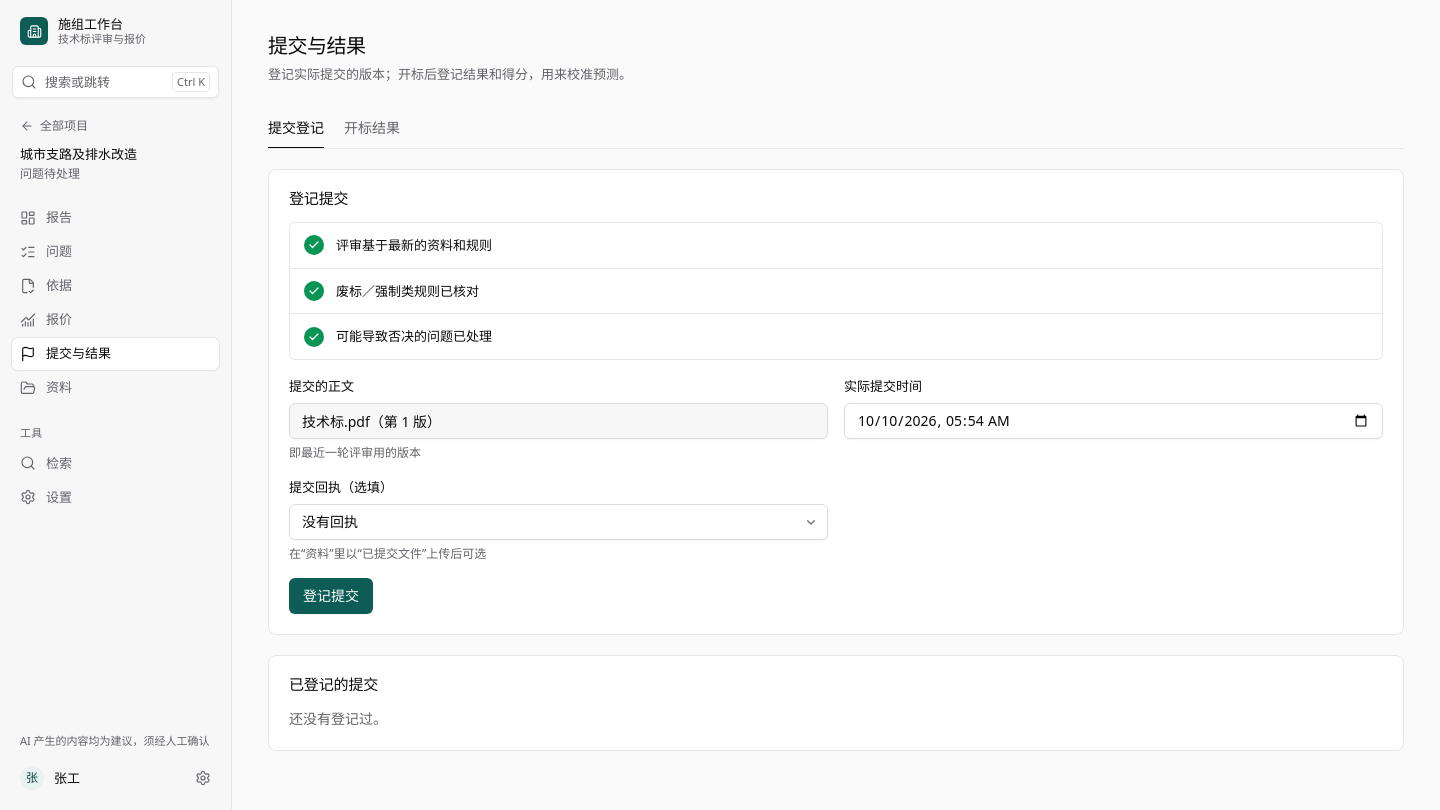
it: 提交与结果页：登记提交 › 409 critical_findings_open：显示后端消息、补一句下一步并逐项列出未满足的条件
This screenshot has width=1440, height=810.
Replace the text in the field labelled "实际提交时间" with "2026-10-05T10:00": (1114, 421) left=844, top=403, right=1383, bottom=439
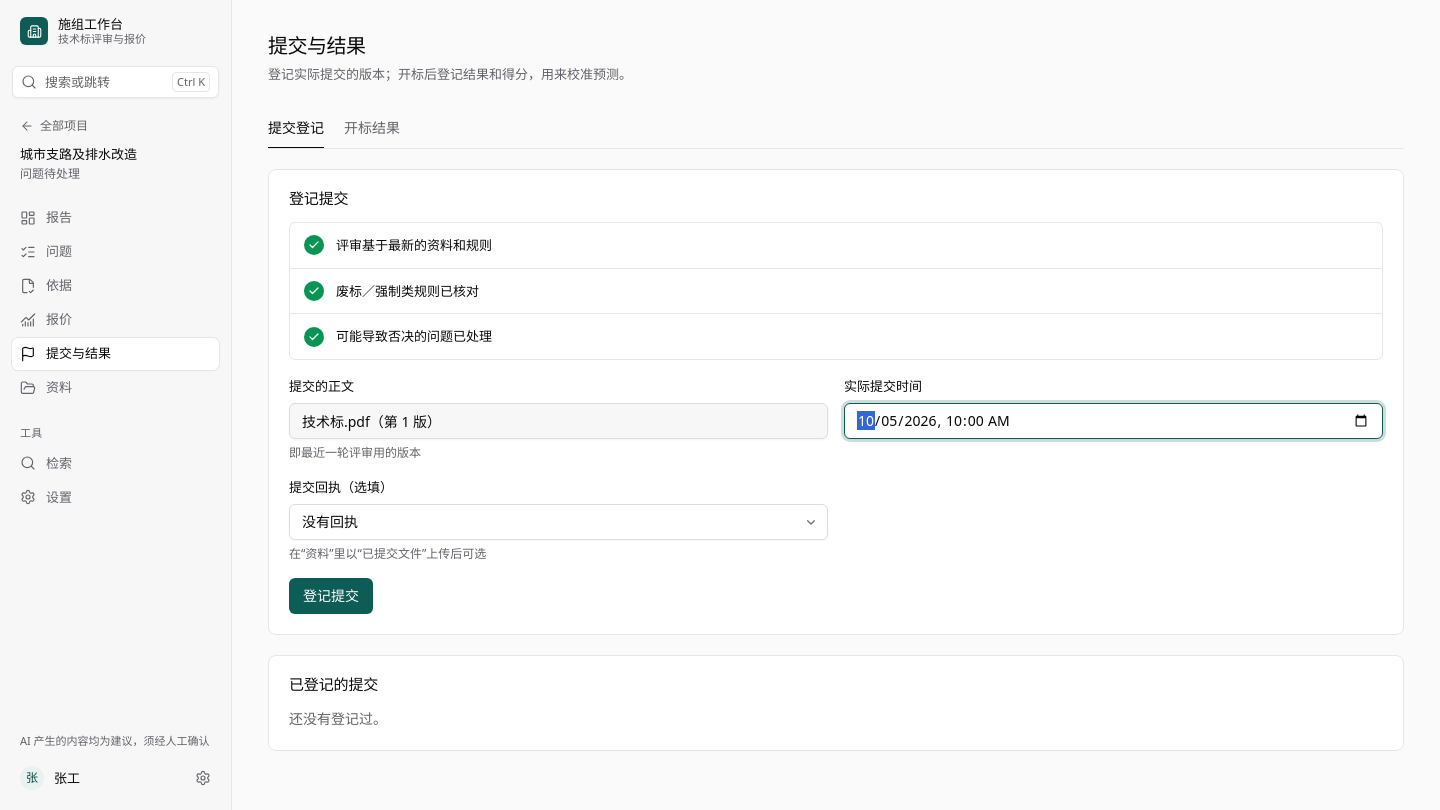
Click the button "登记提交": (331, 596) left=289, top=578, right=373, bottom=614
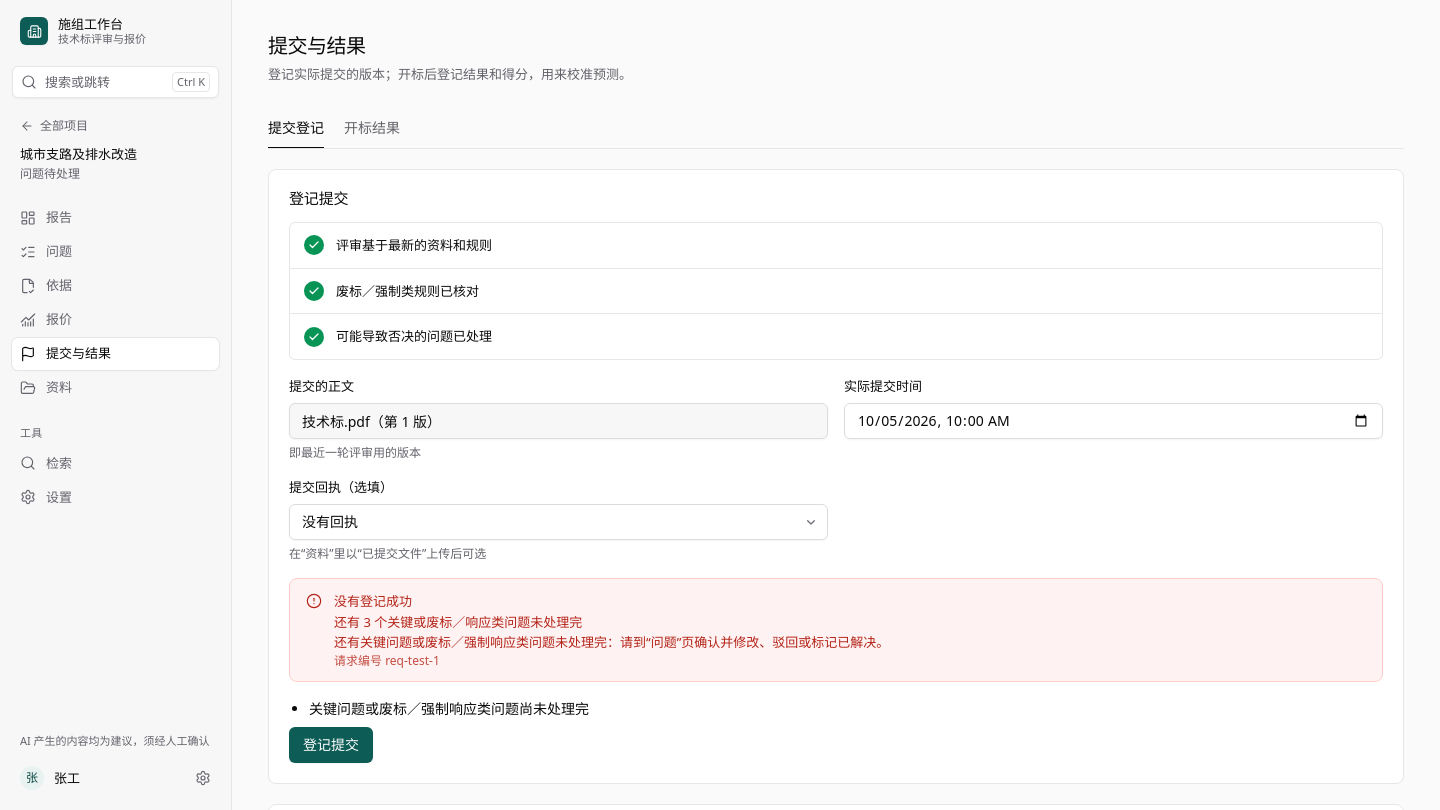
Expected: the text "还有 3 个关键或废标／响应类问题未处理完" is shown, left=334, top=613, right=582, bottom=631
Expected: the text "还有关键问题或废标／强制响应类问题未处理完：请到“问题”页确认并修改、驳回或标记已解决。" is shown, left=334, top=633, right=889, bottom=651
Expected: the list item "关键问题或废标／强制响应类问题尚未处理完" is shown, left=309, top=699, right=589, bottom=718
